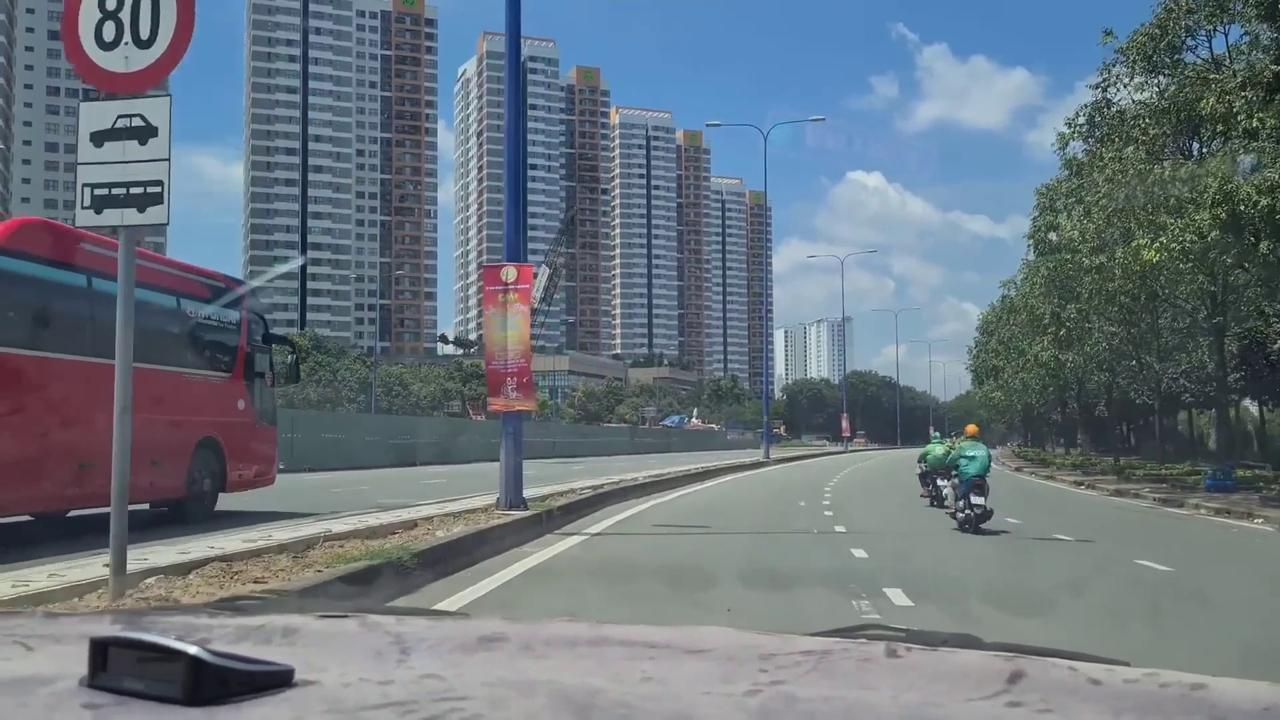Biển phụ: (70, 94, 176, 234)
Giới hạn tốc độ 80Km/h: (58, 0, 202, 95)
